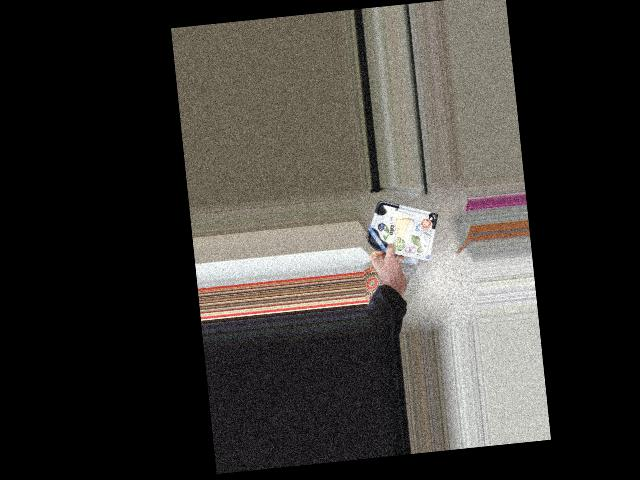cheese: (368, 201, 436, 255)
